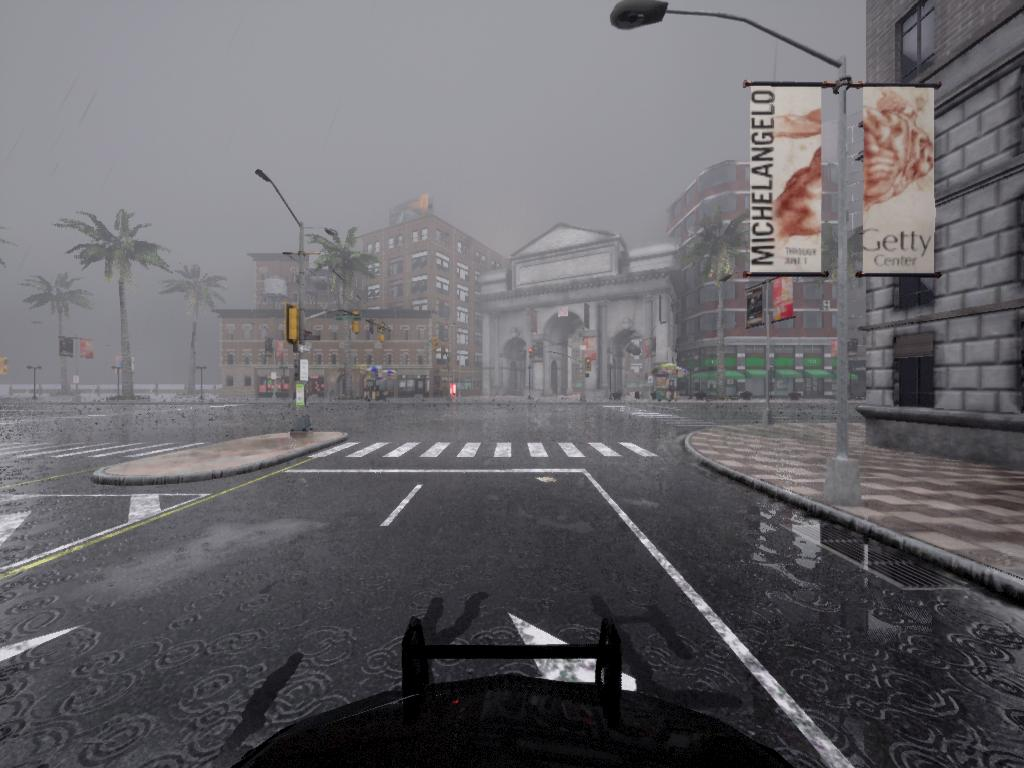traffic_light: (286, 306, 305, 343), (352, 311, 361, 335), (440, 341, 449, 360), (378, 322, 386, 342), (431, 335, 438, 355), (585, 357, 591, 373), (529, 349, 534, 361)
